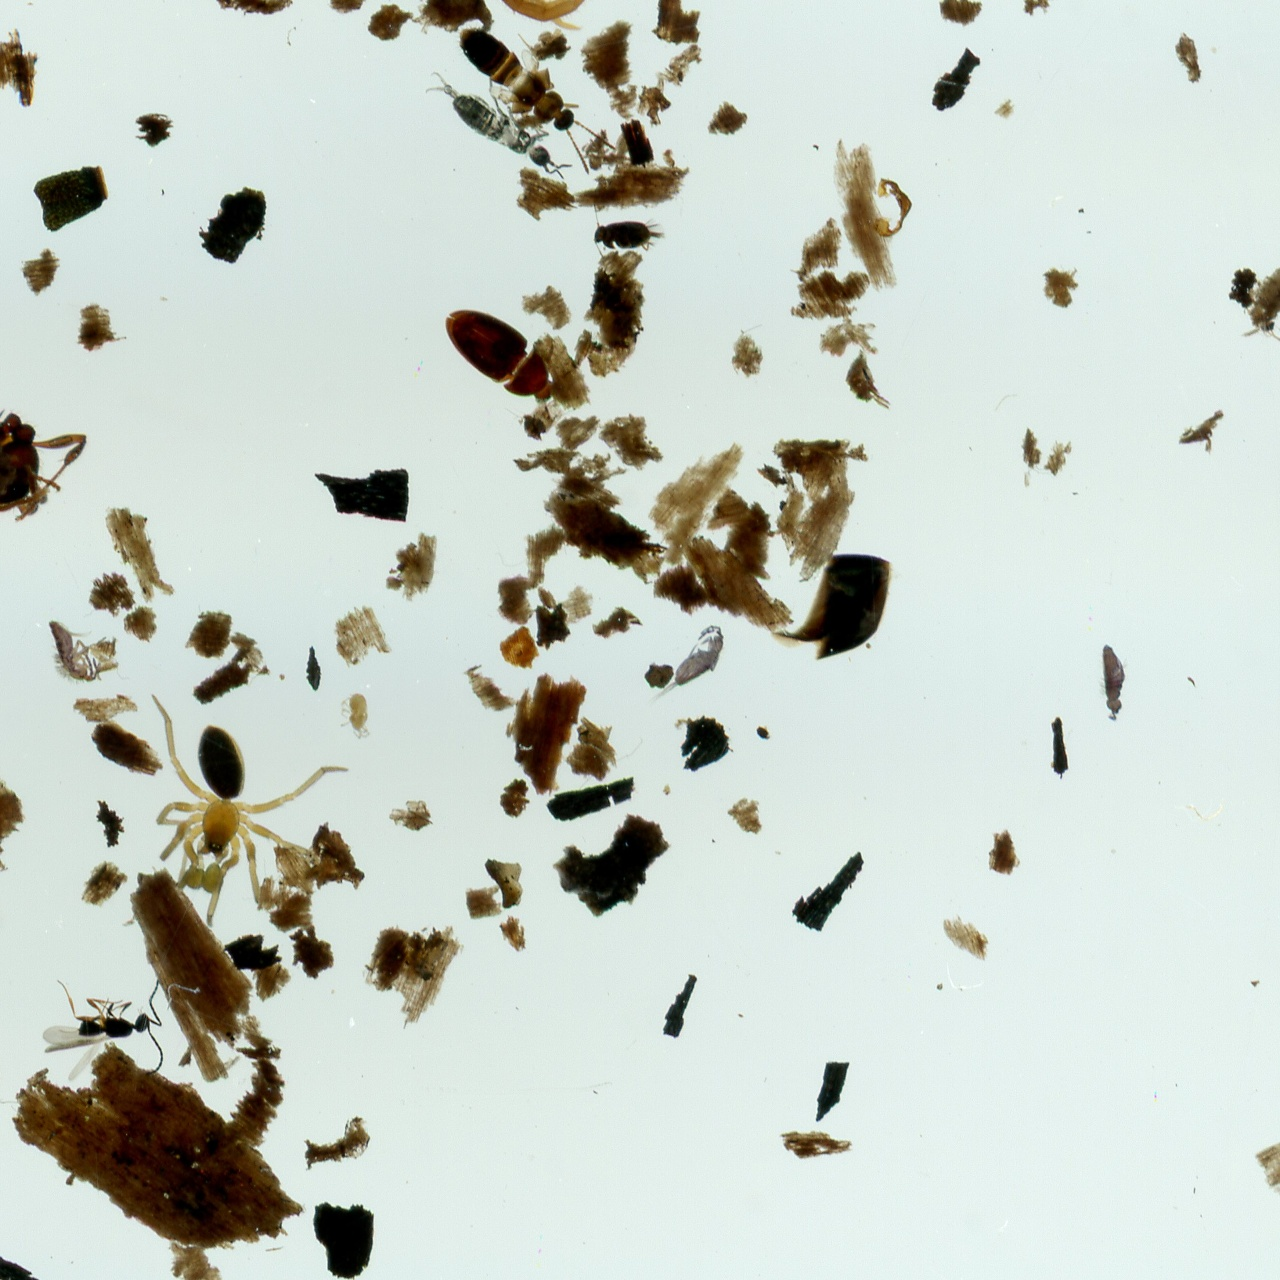arthropod: (143, 694, 350, 934), (436, 7, 633, 188), (414, 53, 579, 202), (423, 282, 579, 431), (42, 978, 166, 1085), (641, 612, 744, 728), (0, 399, 90, 525), (40, 617, 105, 692), (584, 211, 669, 264), (1097, 640, 1135, 727), (339, 692, 373, 742)
